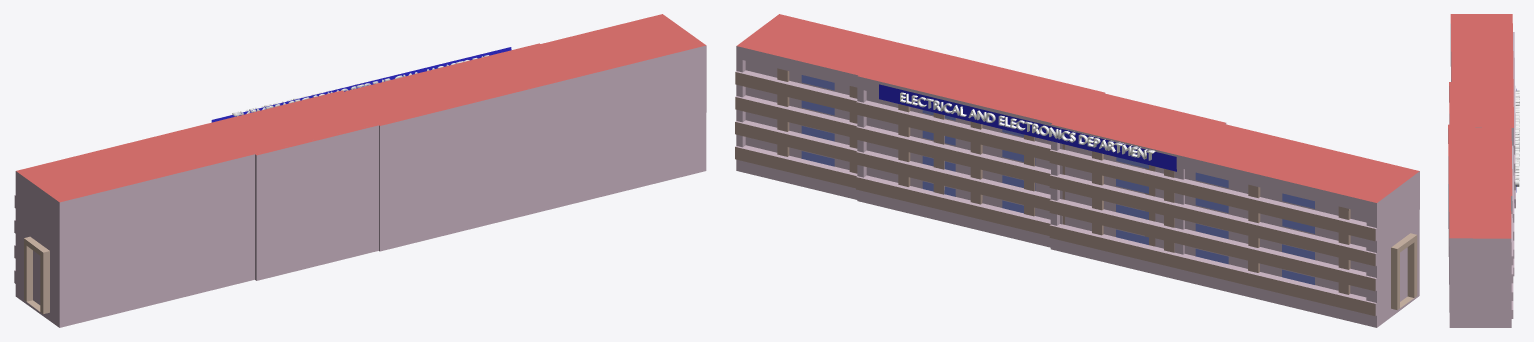
The model's file is electrical.glb.
The picture shows the model from 3 angles, left to right: view 1: azimuth 30°, elevation 25°; view 2: azimuth 150°, elevation 25°; view 3: azimuth 270°, elevation 25°; orthographic projection. The views are drawn at different scales.
Parts seen in each view (by area): view 1: Plane.001, Cube.002, Plane, Text; view 2: Plane.001, Plane, Text, Cube.002; view 3: Plane.001, Text.
Part boxes in pixels (x1,y1,x2,y2): Plane.001: [14, 14, 706, 327]; Cube.002: [24, 236, 49, 314]; Plane: [211, 47, 511, 122]; Text: [232, 55, 488, 116]; Plane.001: [735, 14, 1419, 327]; Plane: [879, 84, 1176, 171]; Text: [900, 92, 1155, 160]; Cube.002: [1391, 233, 1417, 310]; Plane.001: [1448, 14, 1515, 327]; Text: [1515, 90, 1519, 186].
Bounding box in the file's own units: 38.34 × 7.07 × 5.12.
